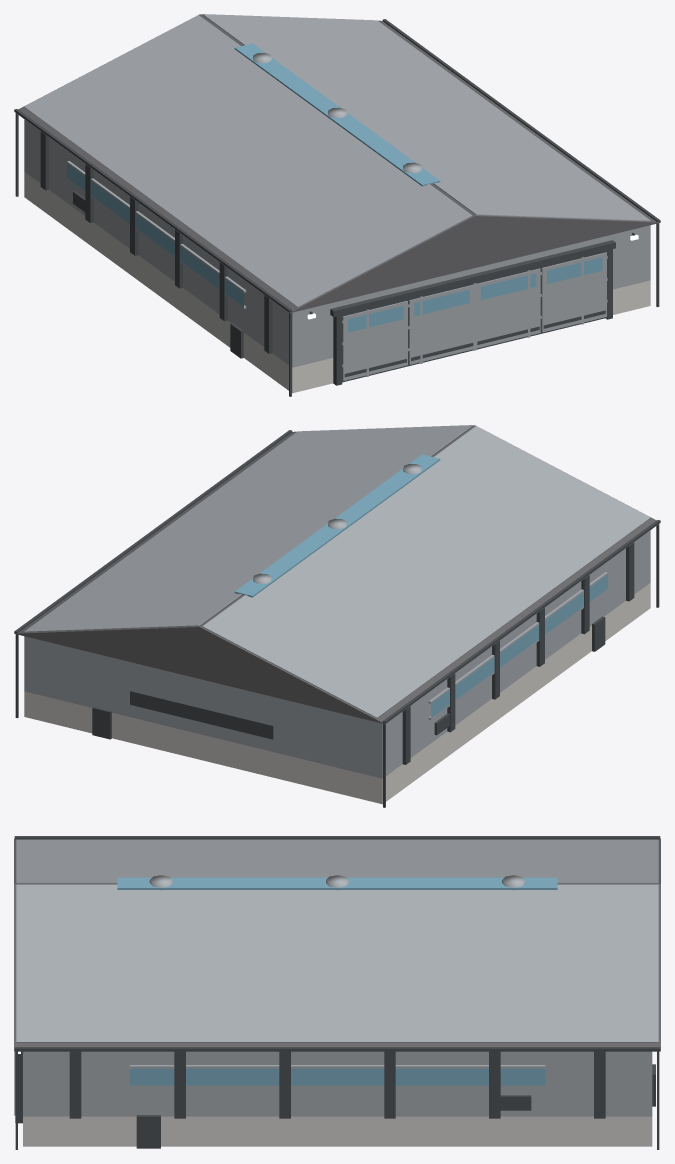
The model's file is hangar_large.glb.
3 renders of one model, top to bottom at view 1: azimuth 30°, elevation 25°; view 2: azimuth 150°, elevation 25°; view 3: azimuth 270°, elevation 25°, orthographic. The views are drawn at different scales.
Visible parts, largest first — view 1: Merged_PropsMetal, hangar_roof, Merged_WindowFrame, Merged_FacadeGlass, hangar_base; view 2: Merged_PropsMetal, hangar_base, hangar_roof, Merged_WindowFrame, Merged_FacadeGlass; view 3: Merged_PropsMetal, hangar_base, Merged_WindowFrame, Merged_FacadeGlass, hangar_roof.
Part boxes in pixels (left/top/right/bottom): Merged_PropsMetal: left=24, top=14, right=650, bottom=380; hangar_roof: left=15, top=14, right=660, bottom=313; Merged_WindowFrame: left=14, top=19, right=660, bottom=396; Merged_FacadeGlass: left=67, top=43, right=602, bottom=332; hangar_base: left=24, top=172, right=650, bottom=393; Merged_PropsMetal: left=24, top=425, right=650, bottom=778; hangar_base: left=24, top=583, right=650, bottom=804; hangar_roof: left=14, top=425, right=659, bottom=724; Merged_WindowFrame: left=14, top=430, right=660, bottom=807; Merged_FacadeGlass: left=234, top=454, right=607, bottom=717; Merged_PropsMetal: left=14, top=839, right=658, bottom=1116; hangar_base: left=23, top=1116, right=652, bottom=1146; Merged_WindowFrame: left=14, top=836, right=660, bottom=1149; Merged_FacadeGlass: left=117, top=877, right=557, bottom=1085; hangar_roof: left=14, top=838, right=660, bottom=1051.
Bounding box in the file's own units: 45.6 × 16.4 × 58.61.
